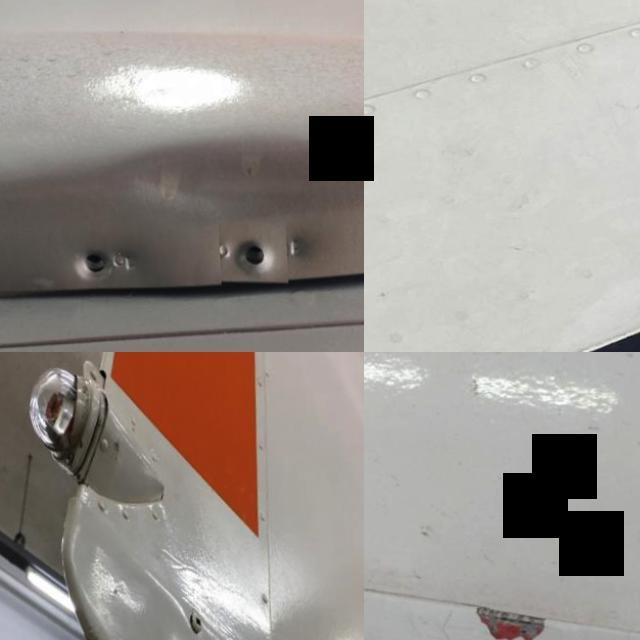Crack: (418, 580, 577, 640), (105, 438, 124, 479)
Missing_Fastener: (216, 223, 286, 288), (59, 231, 124, 296)
